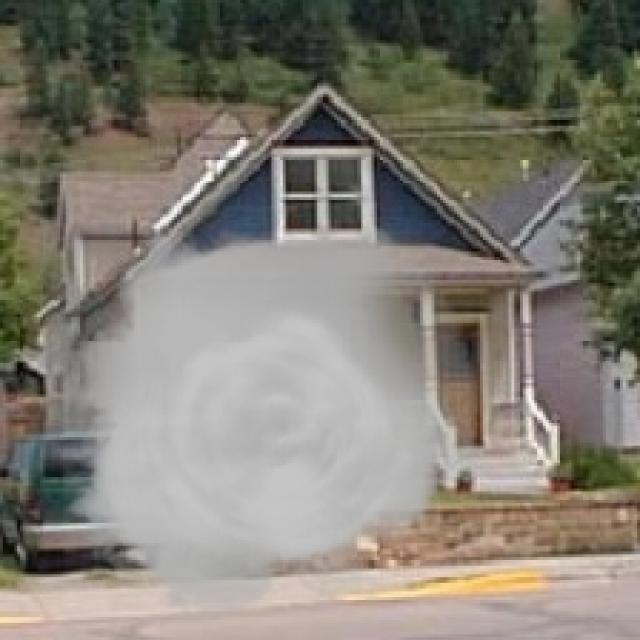smoke: (63, 206, 483, 631)
